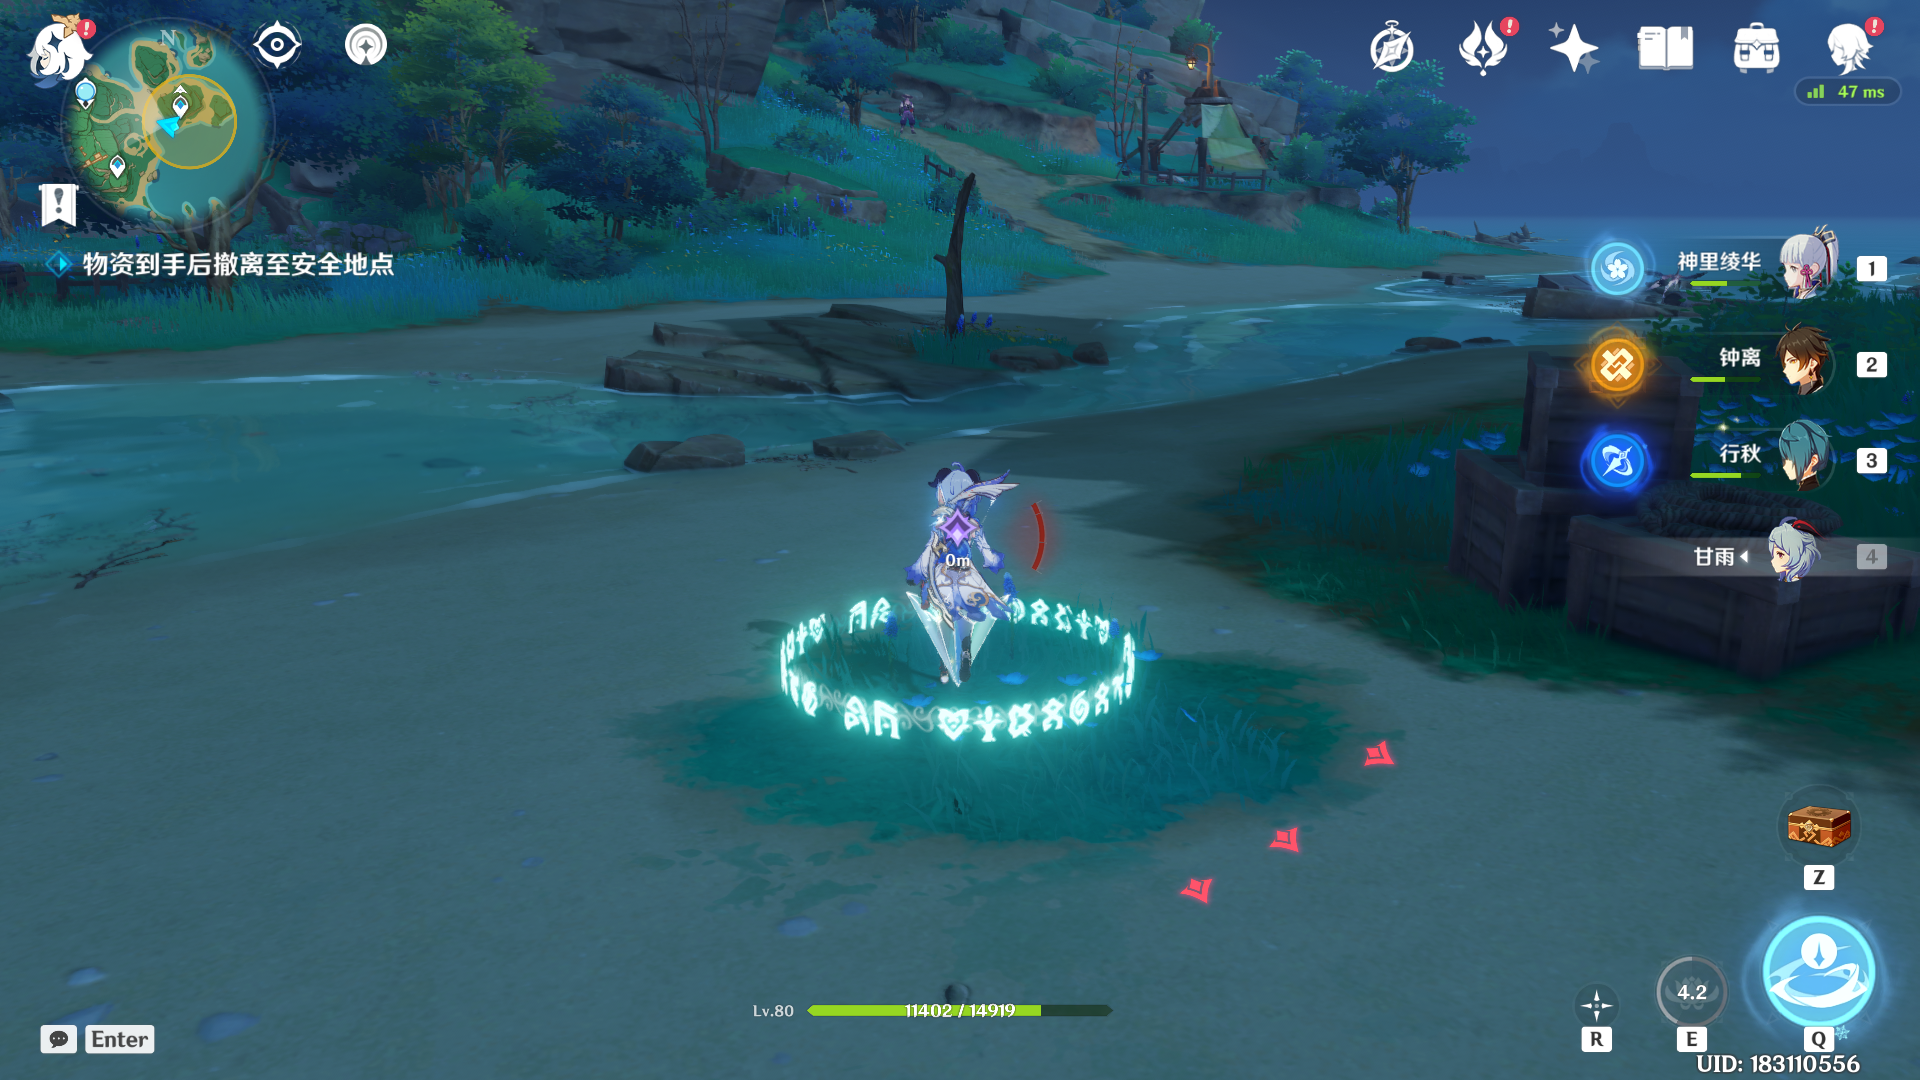character: (868, 438, 1063, 723)
